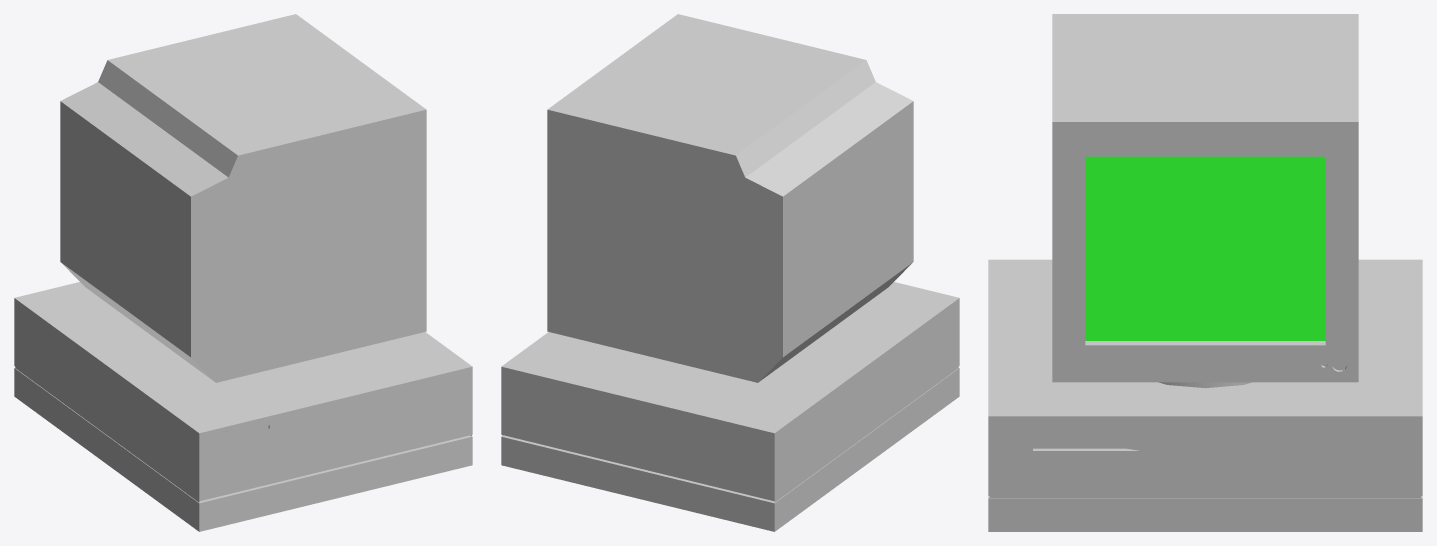
The model's file is Computer.fbx.
The picture shows the model from 3 angles, left to right: view 1: azimuth 30°, elevation 25°; view 2: azimuth 150°, elevation 25°; view 3: azimuth 270°, elevation 25°; orthographic projection. The views are drawn at different scales.
Parts seen in each view (by area): view 1: Monitor, Cube; view 2: Monitor, Cube; view 3: Monitor, Cube.
Boxes of the visible parts, bbox=[...] form: Monitor: bbox=[60, 14, 426, 382]; Cube: bbox=[14, 282, 472, 531]; Monitor: bbox=[547, 14, 913, 382]; Cube: bbox=[501, 282, 959, 531]; Monitor: bbox=[1052, 14, 1358, 382]; Cube: bbox=[988, 259, 1422, 531].
Size of the model in its own units: 290 by 345 by 340.
